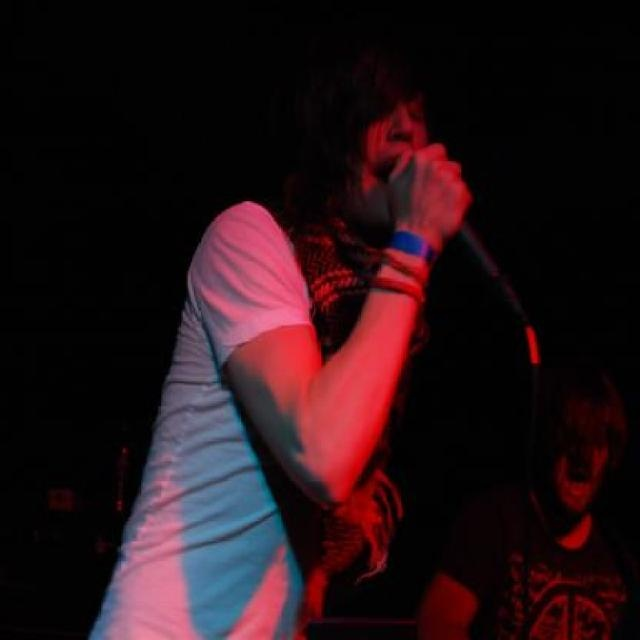obstacle: (213, 132, 452, 632), (406, 326, 640, 640)
